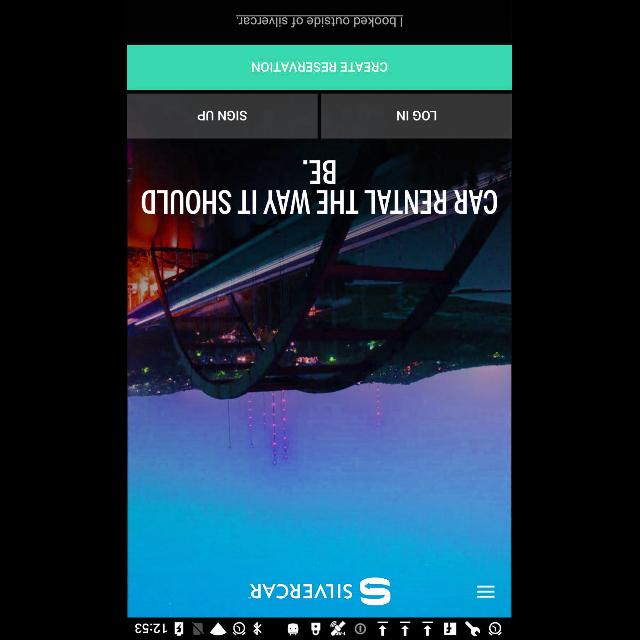backgroundimage: (128, 0, 512, 618)
icon: (477, 584, 495, 598)
image: (248, 577, 392, 605)
text: (142, 160, 498, 214), (236, 15, 404, 27)
textbutton: (128, 45, 512, 89), (322, 94, 512, 138), (128, 94, 318, 138)
uppertaskbar: (128, 617, 512, 639)
